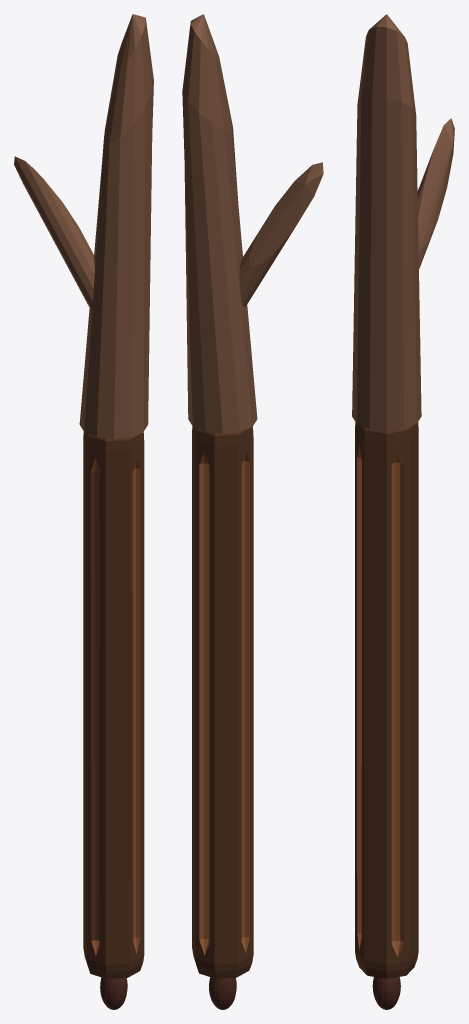
The model's file is Wand 566.glb.
3 renders of one model, left to right at view 1: azimuth 30°, elevation 25°; view 2: azimuth 210°, elevation 25°; view 3: azimuth 270°, elevation 25°, orthographic.
Visible parts, largest first — view 1: GeneratedWand; view 2: GeneratedWand; view 3: GeneratedWand.
Part boxes in pixels (x1,y1,x2,y2): GeneratedWand: [14, 14, 153, 1009]; GeneratedWand: [182, 14, 323, 1009]; GeneratedWand: [352, 14, 454, 1009].
Size of the model in its own units: 0.0578 by 0.5022 by 0.0466.
